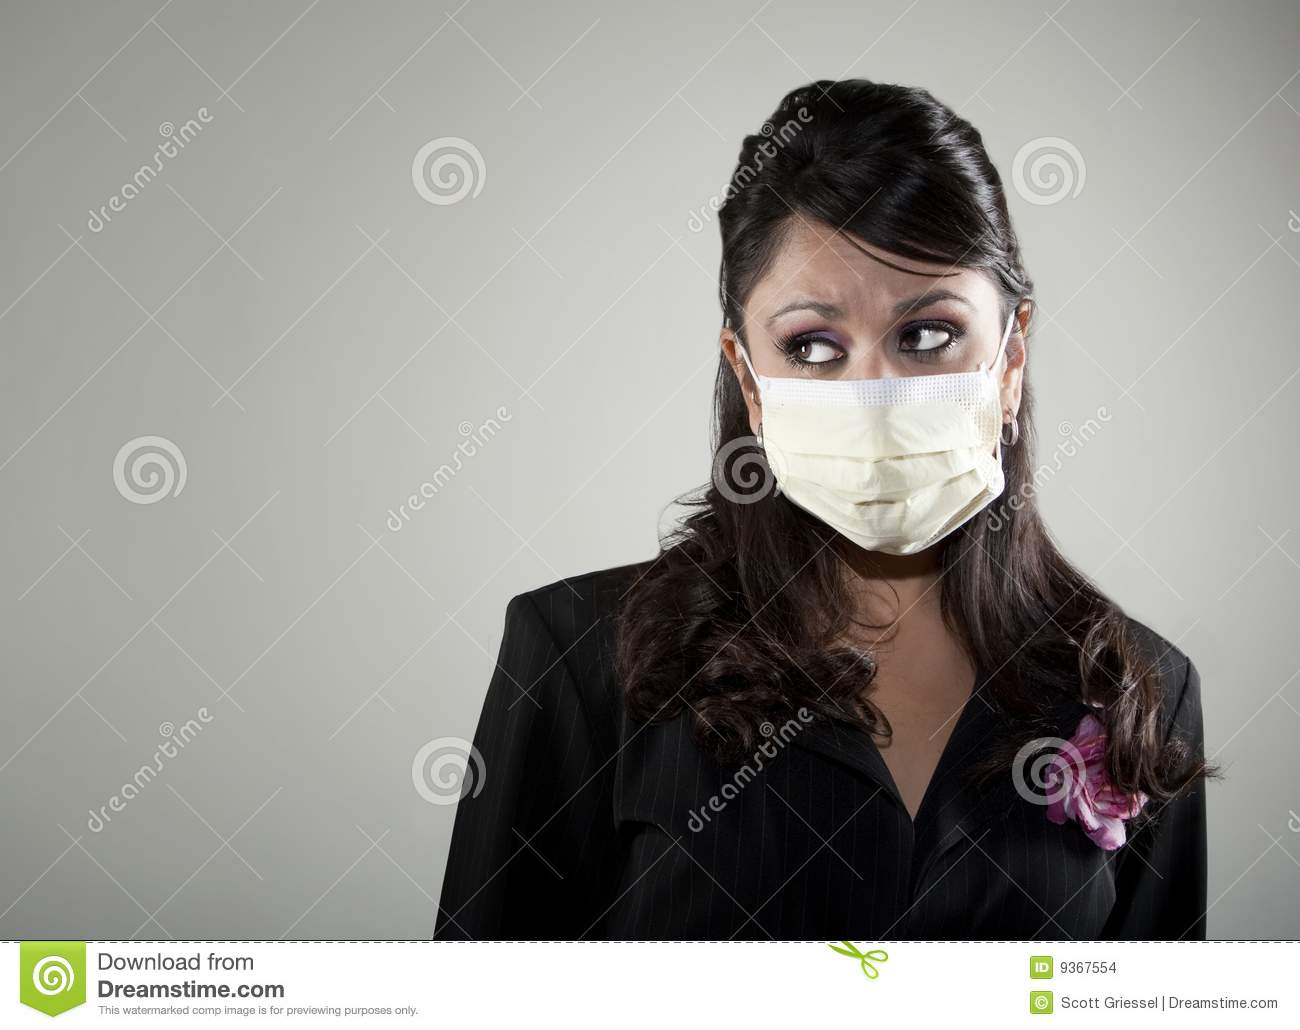mask: (760, 376, 1008, 555)
